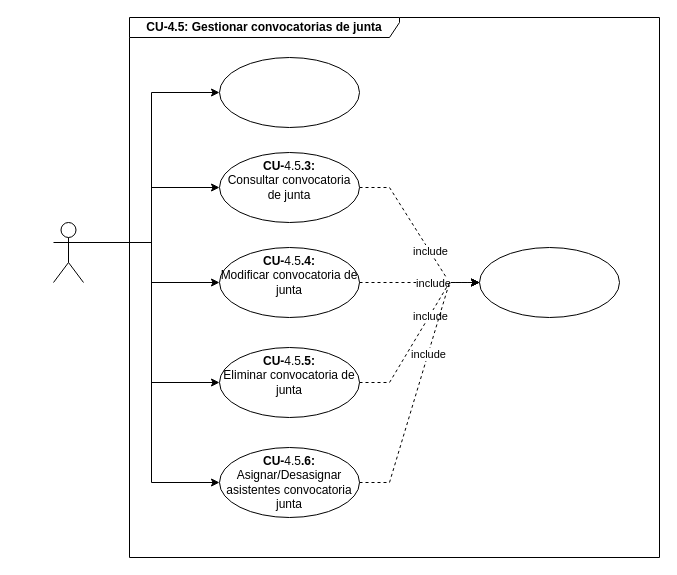
The diagram is 677 pixels wide and 575 high, and some of its shapes have lost their labels. The centre of each missing label's shape, as x and y in pixels:
CU- 4.5 .1: Buscar convocatoria de junta: [549,282]
CU- 4.5 .2: Crear convocatoria de junta: [289,92]
Responsable Junta: [68,252]
